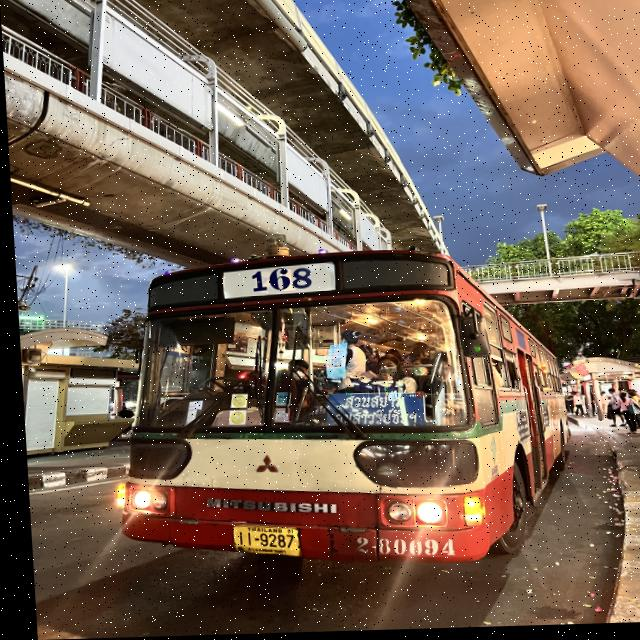BMTA-bus: (112, 254, 565, 567)
Bus Line Number: (213, 266, 337, 296)
Bus Side Number: (335, 532, 456, 567)
Destination Sign: (319, 393, 423, 429)
